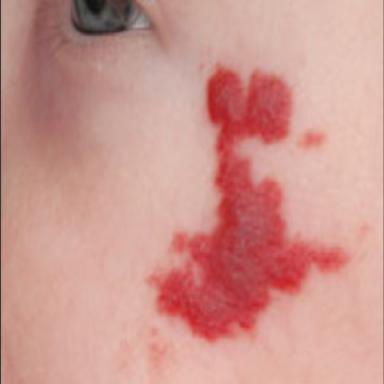Hemangiome: (151, 68, 347, 339)
